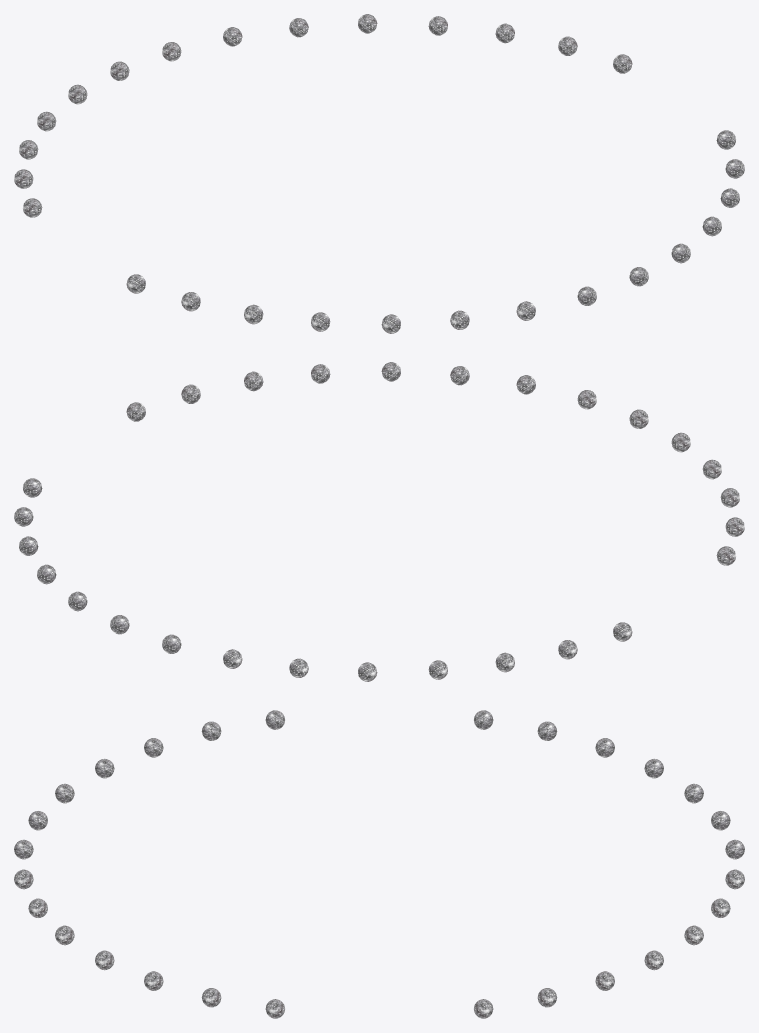
Rendered from bar_lamp.glb.
The picture shows the model from 3 angles, top to bottom: view 1: azimuth 30°, elevation 25°; view 2: azimuth 150°, elevation 25°; view 3: azimuth 270°, elevation 25°; orthographic projection.
Visible parts, largest first — view 1: Bar Lamp; view 2: Bar Lamp; view 3: Bar Lamp.
Boxes of the visible parts, x1,y1,x2,y2 form: Bar Lamp: [14, 14, 744, 333]; Bar Lamp: [14, 362, 744, 681]; Bar Lamp: [14, 710, 744, 1018].
Size of what is drawn, in the model's own units: 8.03 by 0.2249 by 8.35.
1 material, 1 textured.
